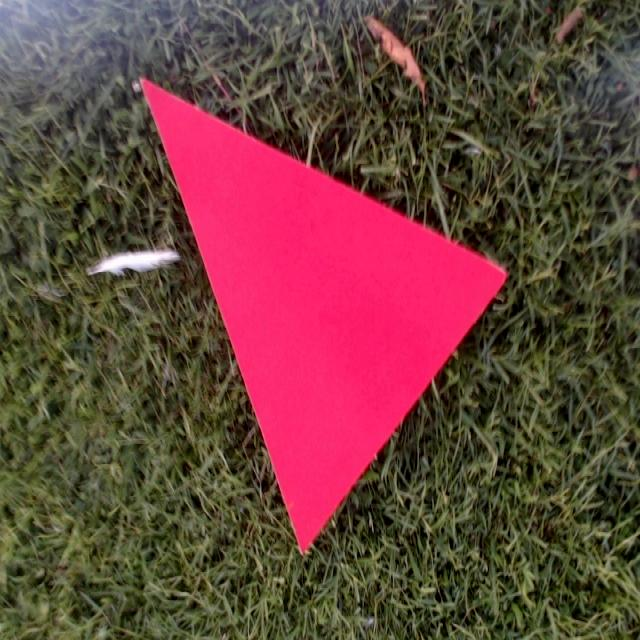red_triangle: (140, 78, 507, 553)
